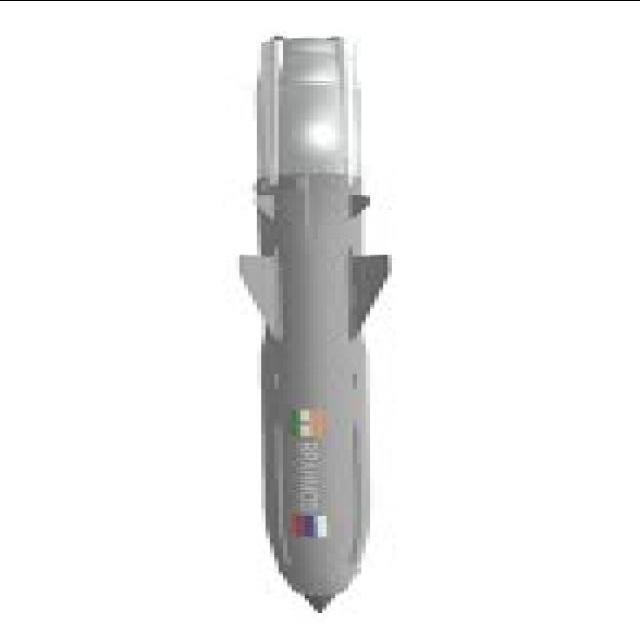missile: (232, 0, 397, 613)
